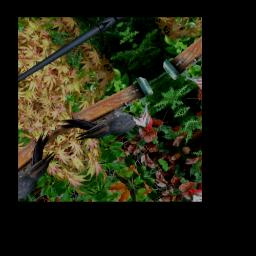Woodpecker: (57, 77, 162, 169)
